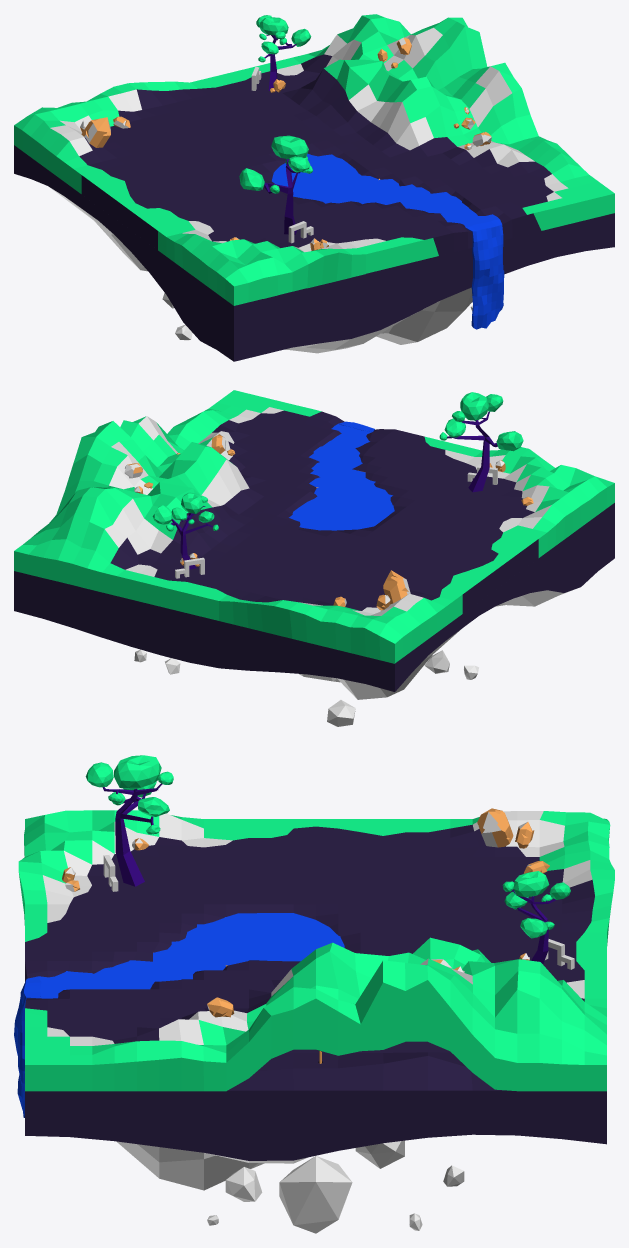
The model's file is isle.fbx.
3 renders of one model, top to bottom at view 1: azimuth 30°, elevation 25°; view 2: azimuth 150°, elevation 25°; view 3: azimuth 270°, elevation 25°, orthographic. The views are drawn at different scales.
Parts seen in each view (by area): view 1: upper, bottom, water, waterfall, leafes, leafes1, tree, normalcristall.003; view 2: upper, bottom, water, leafes, flying_stones, leafes1, tree, normalcristall.003, tree1; view 3: upper, bottom, water, flying_stones, leafes, leafes1, tree, waterfall, normalcristall.003, tree1.
Boxes of the visible parts, box(x1,y1,x2,y2) form: upper: box(14, 14, 614, 305); bottom: box(14, 145, 614, 361); water: box(272, 153, 499, 227); waterfall: box(466, 219, 504, 329); leafes: box(239, 135, 312, 193); leafes1: box(256, 15, 311, 62); tree: box(264, 159, 300, 234); normalcristall.003: box(81, 117, 110, 147); upper: box(14, 390, 614, 663); bottom: box(14, 503, 614, 699); water: box(289, 424, 394, 530); leafes: box(439, 392, 523, 451); flying_stones: box(134, 649, 478, 726); leafes1: box(152, 492, 218, 531); tree: box(447, 411, 497, 492); normalcristall.003: box(383, 570, 410, 604); tree1: box(171, 506, 212, 569); upper: box(18, 810, 614, 1091); bottom: box(25, 1041, 606, 1190); water: box(39, 913, 344, 998); flying_stones: box(207, 1140, 464, 1233); leafes: box(85, 755, 173, 834); leafes1: box(502, 871, 570, 938); tree: box(102, 783, 162, 886); waterfall: box(14, 976, 41, 1117); normalcristall.003: box(477, 808, 513, 847); tree1: box(512, 890, 555, 963).
Bounding box in the file's own units: 2013 × 1299 × 2066.
